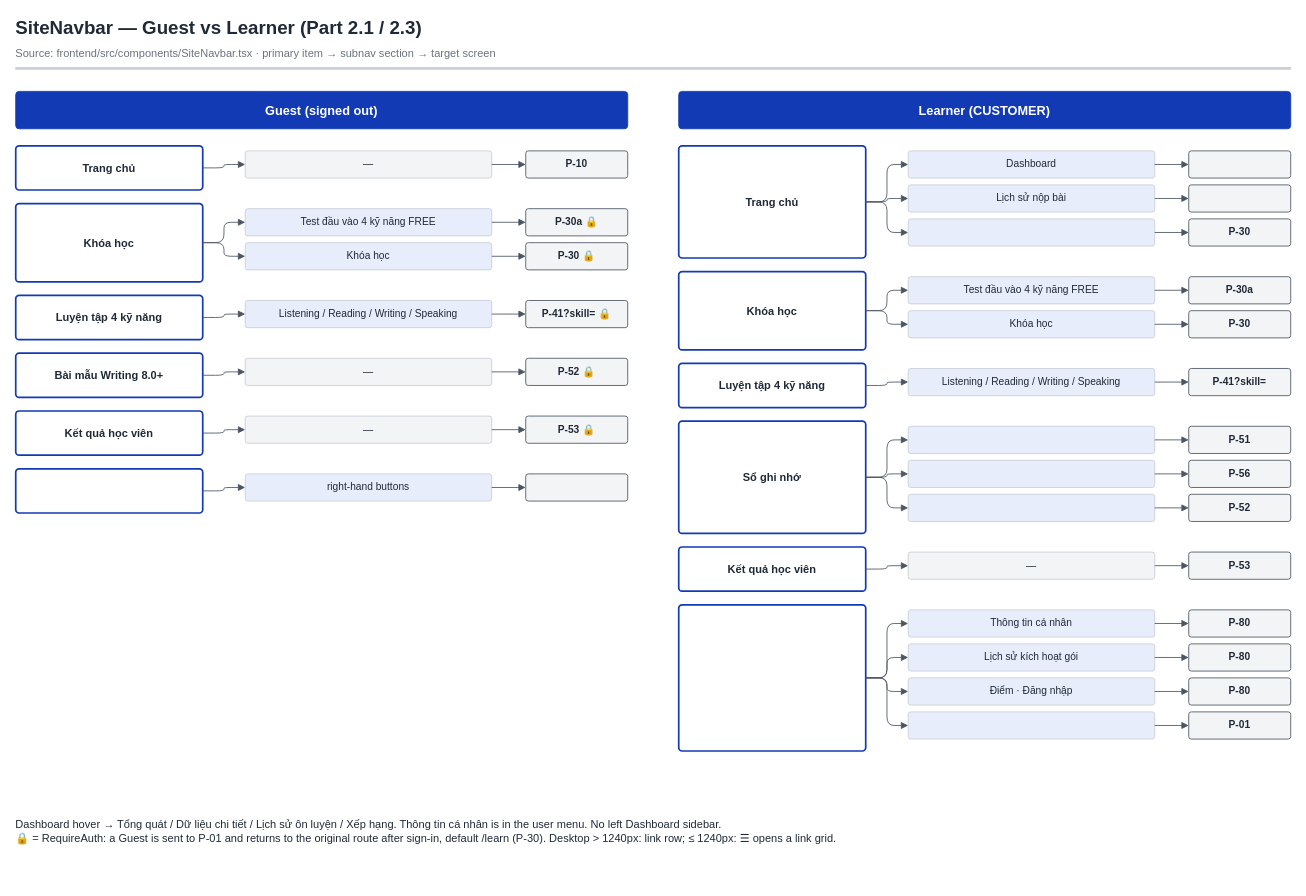
This 1306x896 diagram has some shape labels left out. Each missing label, with the centre of its shape:
[Đăng nhập] [Đăng ký]: the point at 108,490
Bài mẫu 8đ: the point at 1031,507
Flashcard của tôi: the point at 1031,439
Học: the point at 1031,473
Khóa học của tôi: the point at 1031,232
P-01 / P-02: the point at 576,487
P-11: the point at 1239,164
P-54: the point at 1239,198
Đăng xuất: the point at 1031,725
◯ Học viên · Points ▾: the point at 771,677
